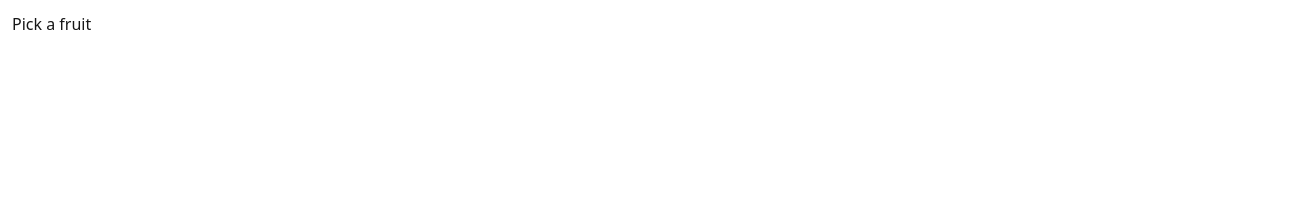
Test: Menu (the production look) › choosing an item closes it; ArrowDown on the button opens it
This screenshot has width=1292, height=200.
Press ArrowDown in the button "Pick a fruit", box left=12, top=12, right=91, bottom=36
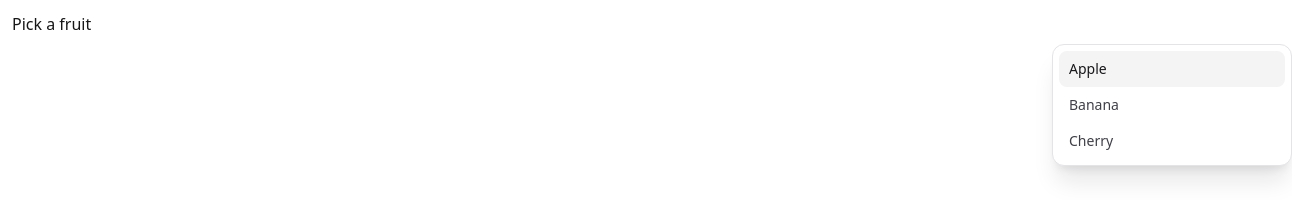
Click the menu item "Cherry". click: click(1172, 141)
box: left=1059, top=123, right=1285, bottom=159
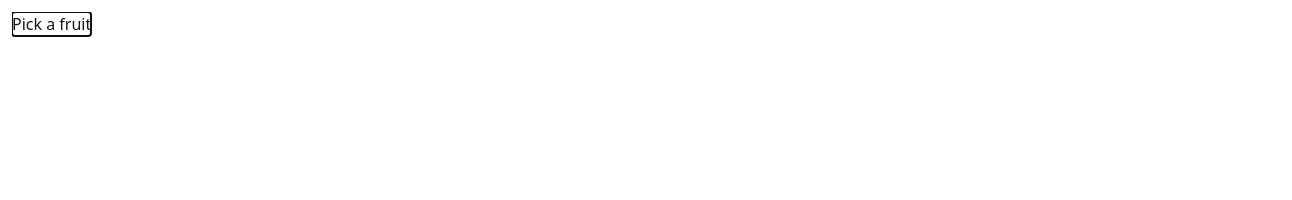
expect the menu is gone: met
